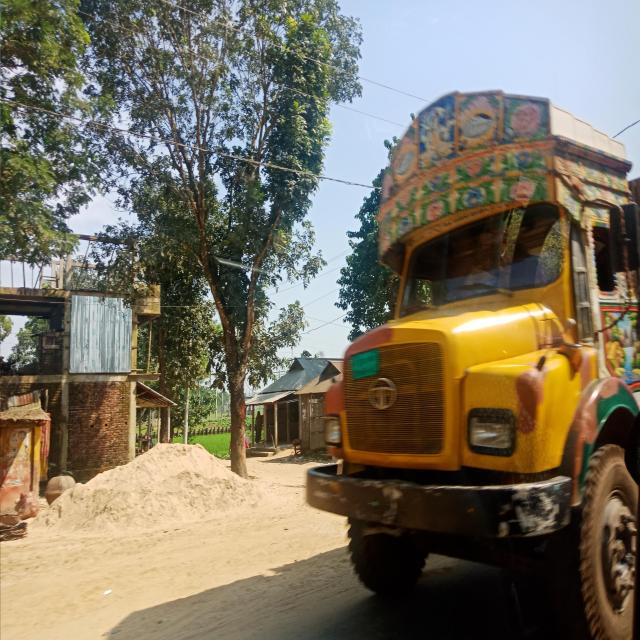truck: (290, 89, 640, 640)
